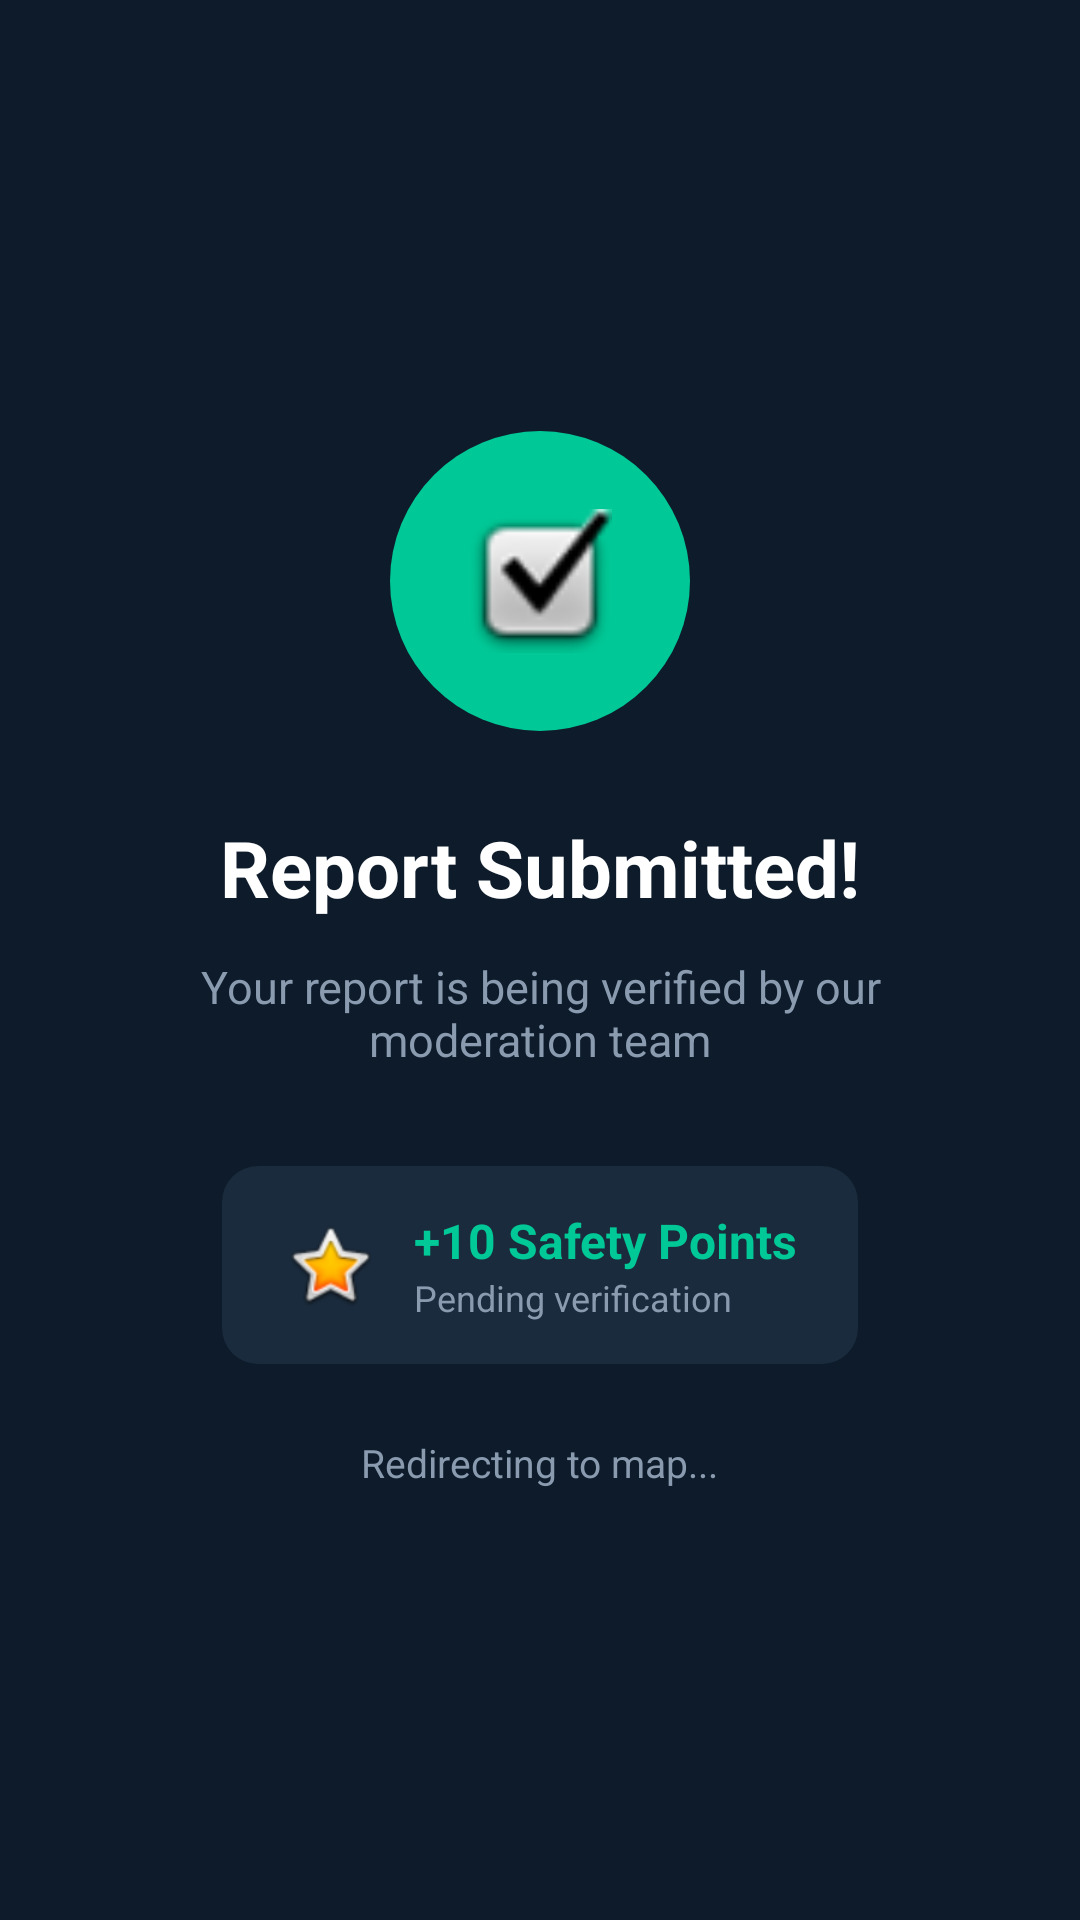

Where to tap for icons on this 1080 × 1920 app screen, as (x=x, y=y):
star on: (x=331, y=1264)
